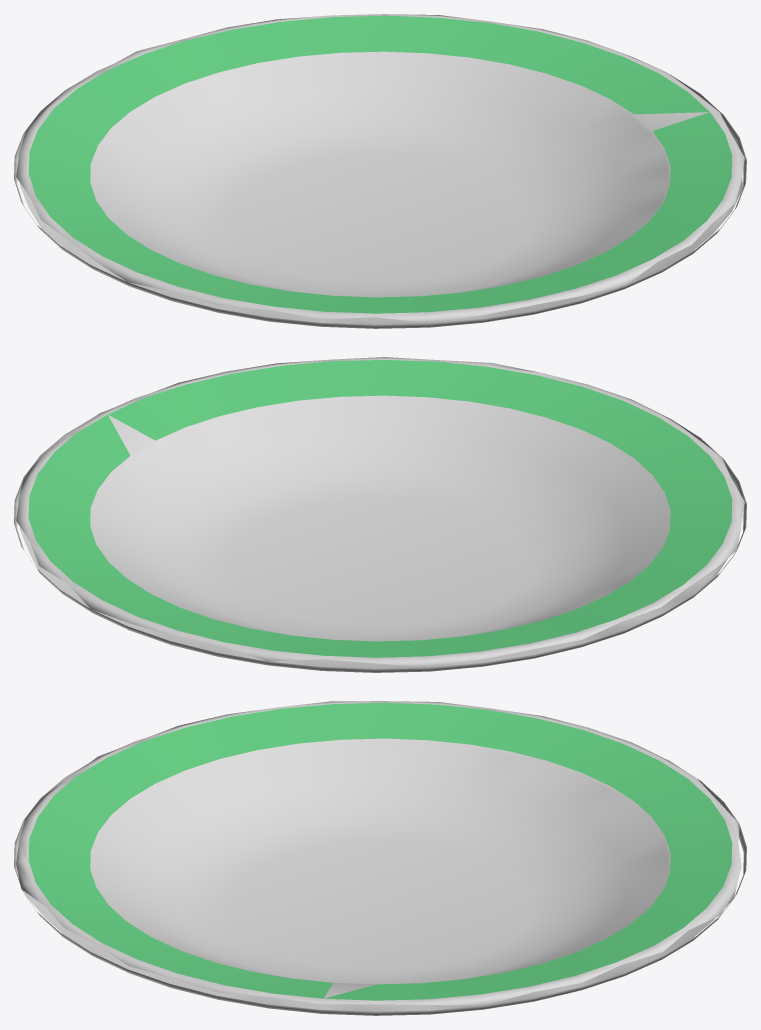
File: J_PlateB_LOD2.obj
3 views of the same model, one above another, from view 1: azimuth 30°, elevation 25°; view 2: azimuth 150°, elevation 25°; view 3: azimuth 270°, elevation 25° (orthographic).
Parts seen in each view (by area): view 1: J_PlateB_m0, J_PlateB_m1; view 2: J_PlateB_m0, J_PlateB_m1; view 3: J_PlateB_m0, J_PlateB_m1.
Part boxes in pixels (x1,y1,x2,y2): J_PlateB_m0: (14, 14, 746, 328); J_PlateB_m1: (29, 15, 731, 313); J_PlateB_m0: (14, 357, 746, 672); J_PlateB_m1: (28, 360, 732, 657); J_PlateB_m0: (14, 701, 746, 1015); J_PlateB_m1: (28, 702, 732, 1000).
Size of the model in its own units: 0.2545 by 0.0292 by 0.254.
